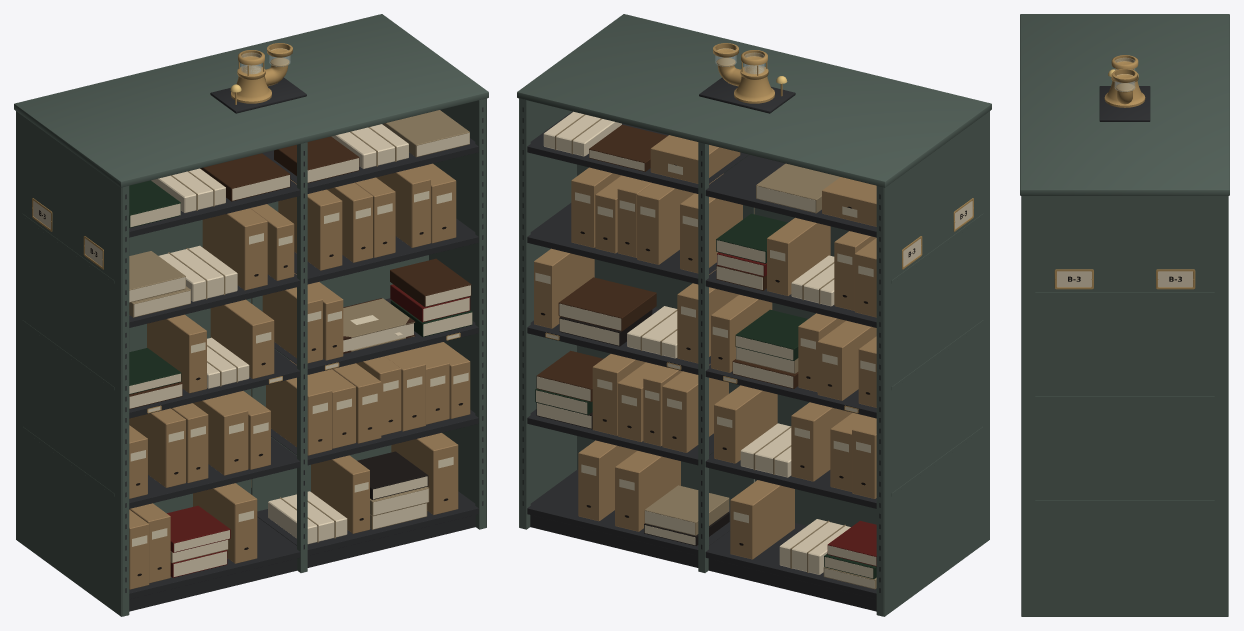
Rendered from stacks_shelving.glb.
The picture shows the model from 3 angles, left to right: view 1: azimuth 30°, elevation 25°; view 2: azimuth 150°, elevation 25°; view 3: azimuth 270°, elevation 25°; orthographic projection.
Visible parts, largest first — view 1: stacks_frame, contents_s_r_1, contents_s_r_0, contents_s_r_3, contents_s_l_3, contents_s_l_1, contents_s_l_2, contents_s_l_0, contents_s_r_4, contents_s_l_4, stacks_ledger_right, stacks_ledger_left (+3 smaller); view 2: stacks_frame, contents_n_r_1, contents_n_l_2, contents_n_l_1, contents_n_r_2, contents_n_l_3, contents_n_r_3, contents_n_r_0, contents_n_l_0, contents_n_r_4, contents_n_l_4, stacks_terminal; view 3: stacks_frame, stacks_terminal.
Part boxes in pixels (x1,y1,x2,y2): stacks_frame: (14,14,488,616); contents_s_r_1: (266,342,470,455); contents_s_r_0: (268,433,458,544); contents_s_r_3: (278,163,456,270); contents_s_l_3: (129,204,294,317); contents_s_l_1: (129,391,270,498); contents_s_l_2: (129,299,274,409); contents_s_l_0: (129,483,257,589); contents_s_r_4: (274,110,469,182); contents_s_l_4: (129,153,290,227); stacks_ledger_right: (390,258,472,336); stacks_ledger_left: (262,273,343,363); stacks_frame: (517,14,991,616); contents_n_r_1: (535,350,728,452); contents_n_l_2: (711,294,876,407); contents_n_l_1: (714,385,876,498); contents_n_r_2: (534,248,738,363); contents_n_l_3: (716,213,876,317); contents_n_r_3: (571,167,742,273); contents_n_r_0: (578,440,729,545); contents_n_l_0: (730,480,876,589); contents_n_r_4: (543,111,740,183); contents_n_l_4: (756,163,876,226); stacks_terminal: (699,43,795,113); stacks_frame: (1020,14,1229,616); stacks_terminal: (1099,55,1150,121).
Bounding box in the file's own units: 1.81 × 2.25 × 0.912.
